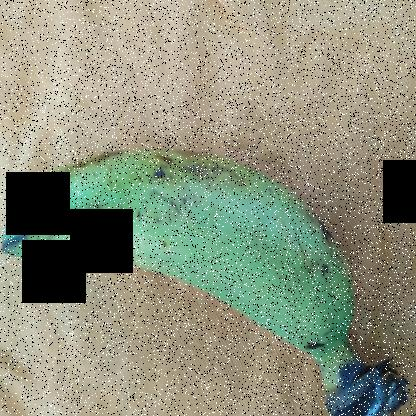ripe: (1, 130, 357, 364)
